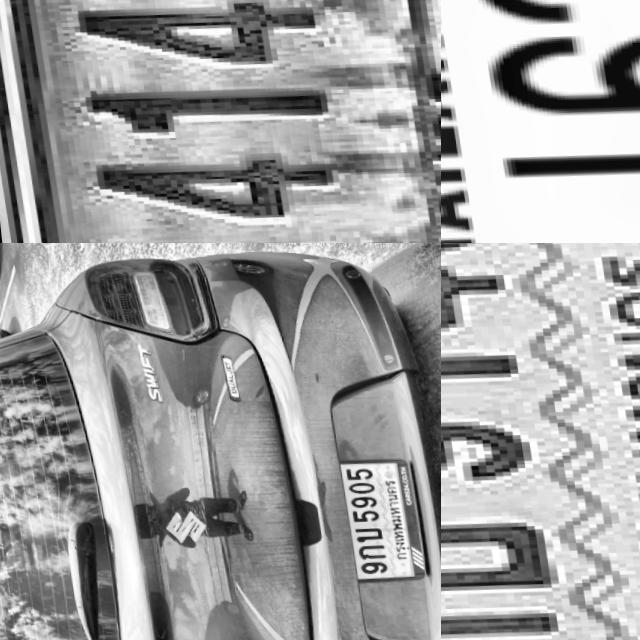license-plate: (0, 0, 441, 243), (441, 243, 640, 640), (441, 0, 640, 243), (330, 454, 424, 583)
